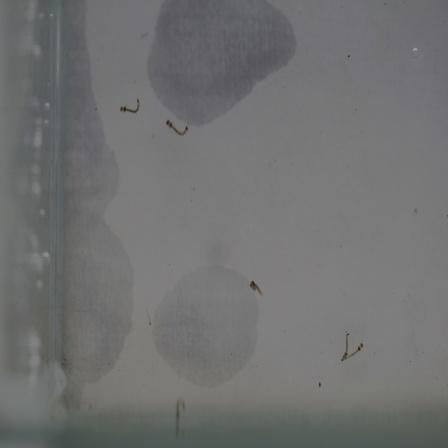Jentik-Nyamuk: (338, 328, 365, 367), (113, 94, 148, 119), (162, 114, 193, 141), (246, 274, 268, 303)
